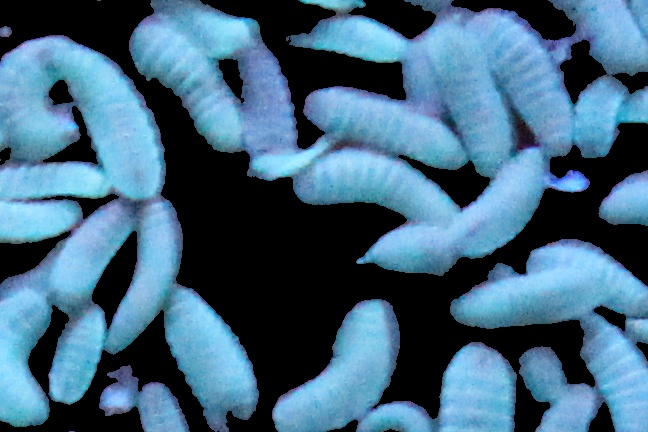larvae: (269, 297, 405, 432), (60, 45, 165, 194), (471, 8, 573, 153), (421, 23, 517, 175), (130, 21, 241, 151), (165, 285, 260, 427), (302, 83, 466, 165), (106, 198, 184, 351), (293, 147, 454, 214), (451, 265, 608, 330), (454, 147, 548, 253), (49, 199, 135, 309), (530, 237, 648, 316), (1, 35, 75, 159), (231, 35, 300, 152), (582, 318, 648, 432), (1, 285, 52, 431), (439, 342, 518, 432), (555, 1, 648, 73), (358, 219, 462, 277), (293, 14, 409, 61), (50, 309, 105, 405), (571, 78, 628, 154), (1, 194, 81, 243), (179, 9, 260, 57), (1, 163, 111, 198), (402, 40, 447, 113), (596, 169, 648, 228), (353, 398, 435, 432), (139, 383, 180, 432)
